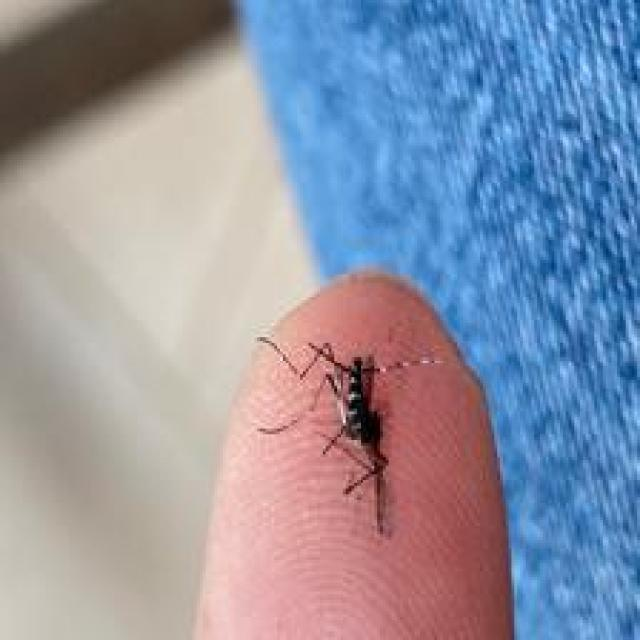Aedes albopictus: (253, 333, 444, 536)
